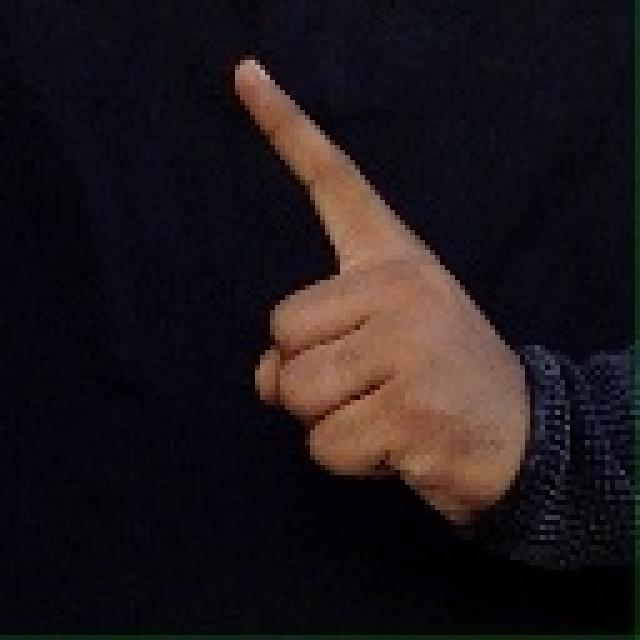Y: (210, 40, 535, 525)
